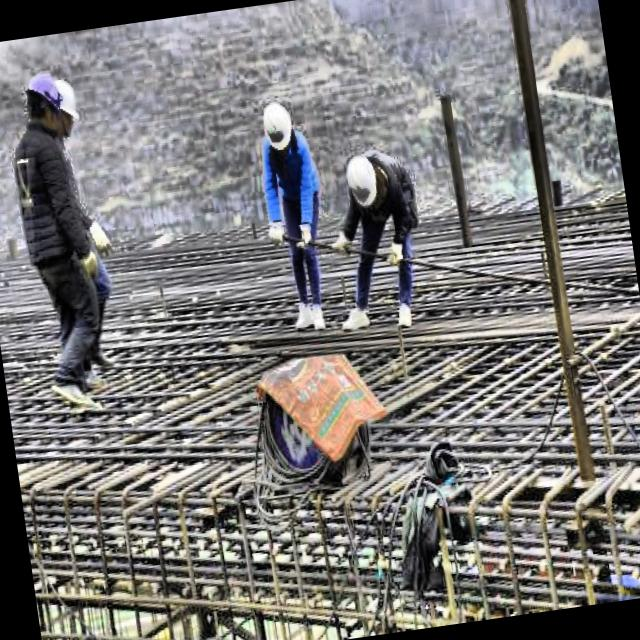helmet: (254, 90, 298, 162), (22, 74, 68, 138), (340, 148, 386, 210), (48, 74, 80, 142)
